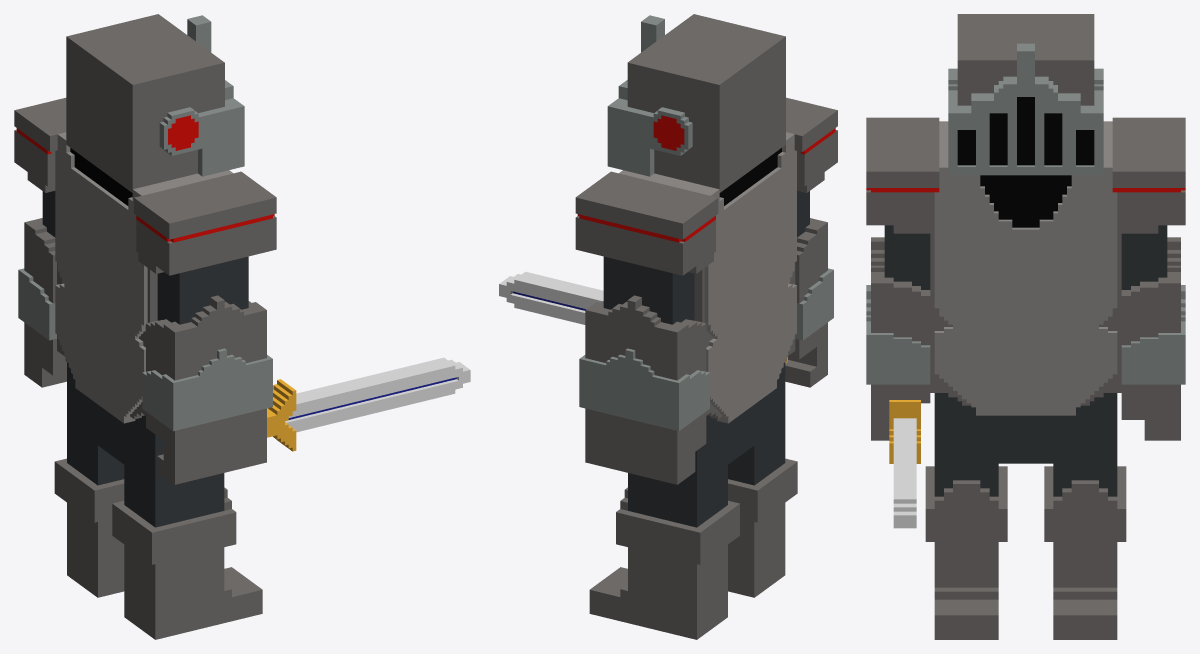
The model's file is paladino fbx.fbx.
3 renders of one model, left to right at view 1: azimuth 30°, elevation 25°; view 2: azimuth 150°, elevation 25°; view 3: azimuth 270°, elevation 25°, orthographic. The views are drawn at different scales.
Parts seen in each view (by area): view 1: paladino; view 2: paladino; view 3: paladino.
Part boxes in pixels (x1,y1,x2,y2): paladino: [14, 14, 470, 639]; paladino: [499, 14, 837, 639]; paladino: [866, 14, 1185, 639].
Bounding box in the file's own units: 820 × 1410 × 700.
